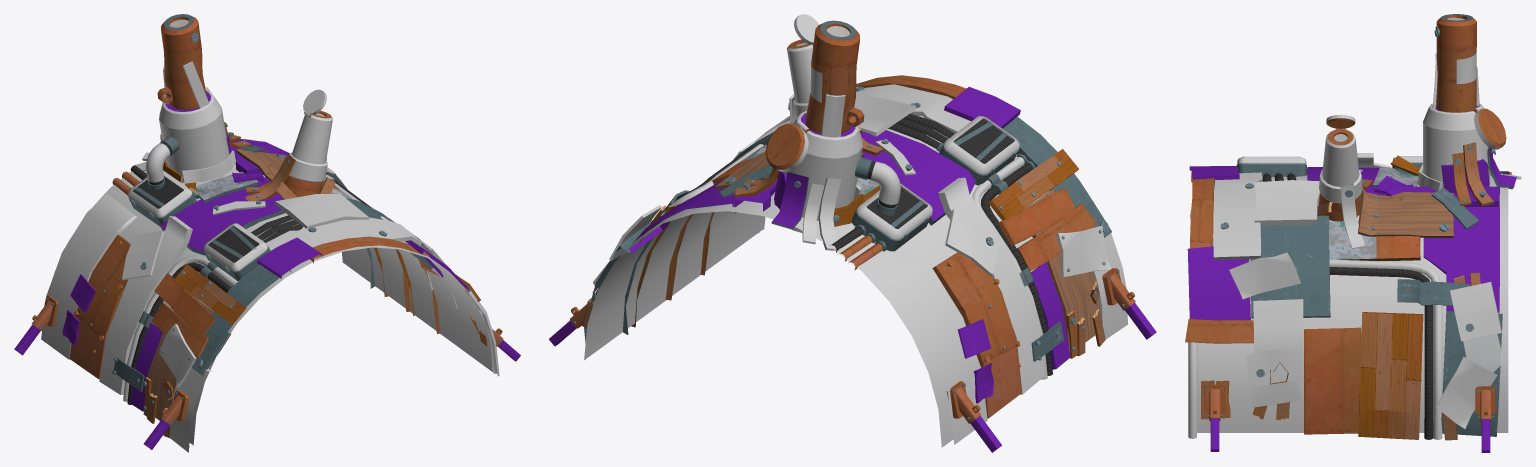
File: env_hideout_mid.fbx
3 views of the same model, side by side, from view 1: azimuth 30°, elevation 25°; view 2: azimuth 150°, elevation 25°; view 3: azimuth 270°, elevation 25° (orthographic). The views are drawn at different scales.
Parts seen in each view (by area): view 1: env_hideout_mid; view 2: env_hideout_mid; view 3: env_hideout_mid.
Part boxes in pixels (x1,y1,x2,y2): env_hideout_mid: [14, 14, 520, 452]; env_hideout_mid: [549, 14, 1156, 452]; env_hideout_mid: [1185, 14, 1521, 452].
Bounding box in the file's own units: 236 × 188 × 175.
